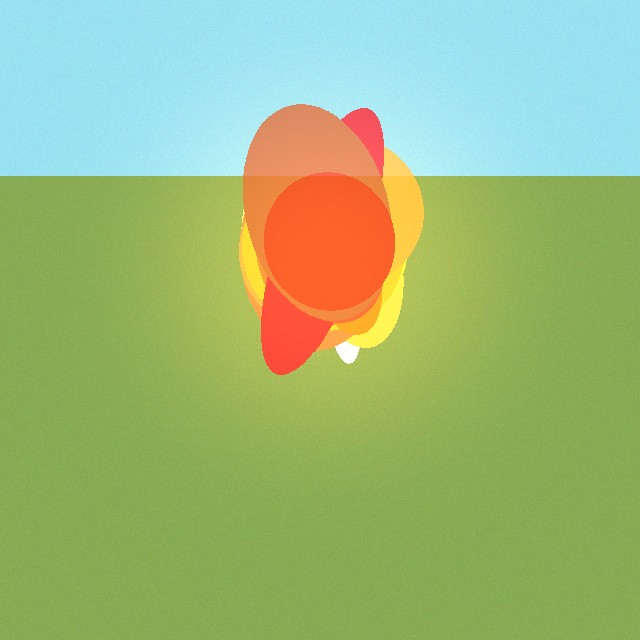fire: (229, 176, 423, 350)
